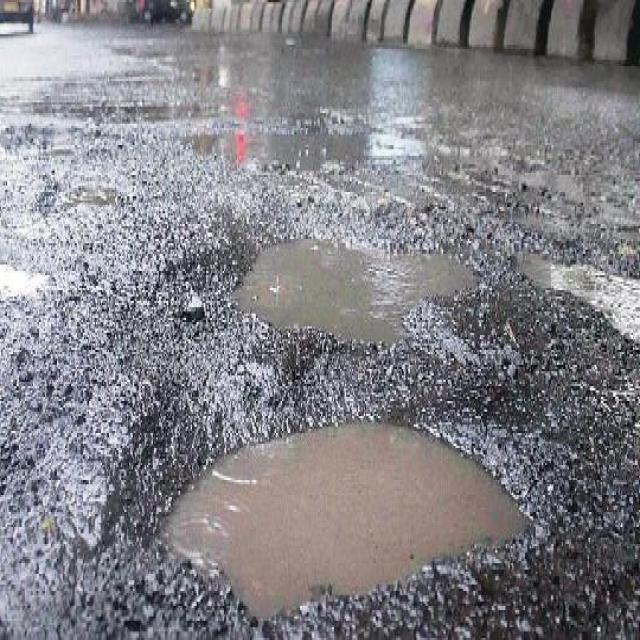Pothole: (114, 385, 544, 626), (206, 210, 490, 351)
